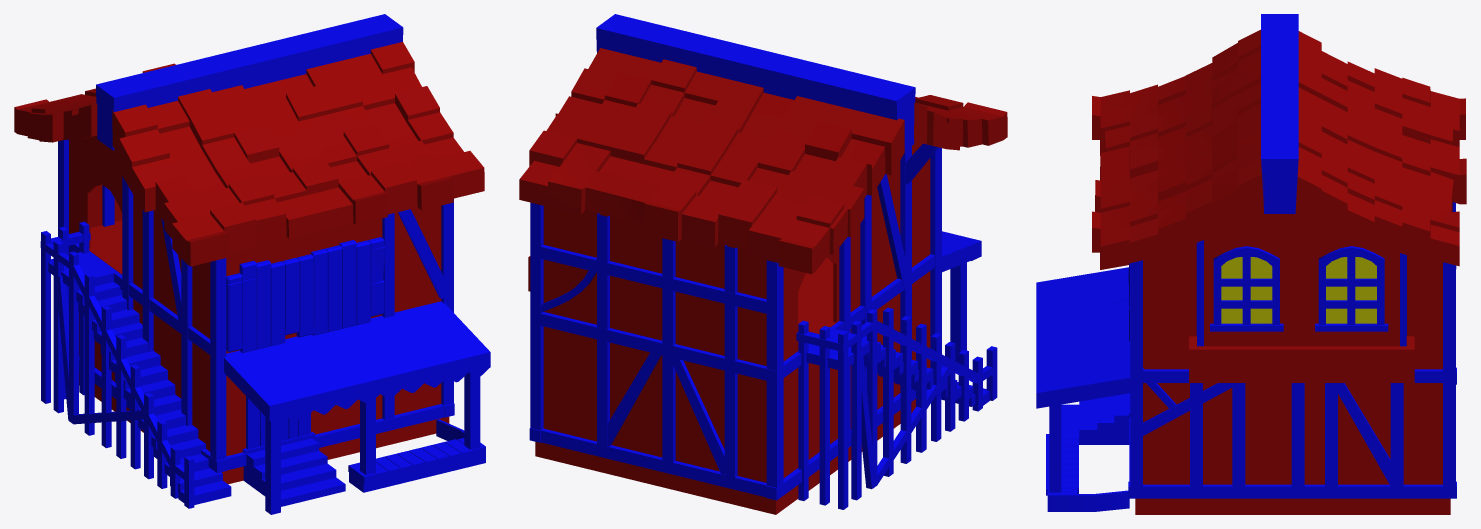
File: shop.fbx
3 renders of one model, left to right at view 1: azimuth 30°, elevation 25°; view 2: azimuth 150°, elevation 25°; view 3: azimuth 270°, elevation 25°, orthographic. The views are drawn at different scales.
Parts seen in each view (by area): view 1: 对象081, 对象078, 对象070, 对象042, 对象029, 对象035; view 2: 对象078, 对象081, 对象042, 对象035; view 3: 对象078, 对象081, 对象042, 对象060, 对象048, 对象083, 对象084.
Part boxes in pixels (box(x1,y1,x2,y2)): 对象081: box(40, 14, 490, 514); 对象078: box(14, 42, 484, 456); 对象070: box(226, 237, 384, 352); 对象042: box(79, 372, 449, 484); 对象029: box(242, 396, 315, 454); 对象035: box(89, 220, 437, 306); 对象078: box(519, 48, 1007, 482); 对象081: box(529, 14, 997, 509); 对象042: box(535, 399, 915, 514); 对象035: box(786, 257, 857, 359); 对象078: box(1092, 29, 1466, 484); 对象081: box(1036, 14, 1456, 511); 对象042: box(1135, 498, 1450, 514); 对象060: box(1210, 246, 1283, 331); 对象048: box(1315, 246, 1388, 331); 对象083: box(1221, 257, 1272, 323); 对象084: box(1326, 257, 1376, 323).
Size of the model in its own units: 582 by 649 by 695.
